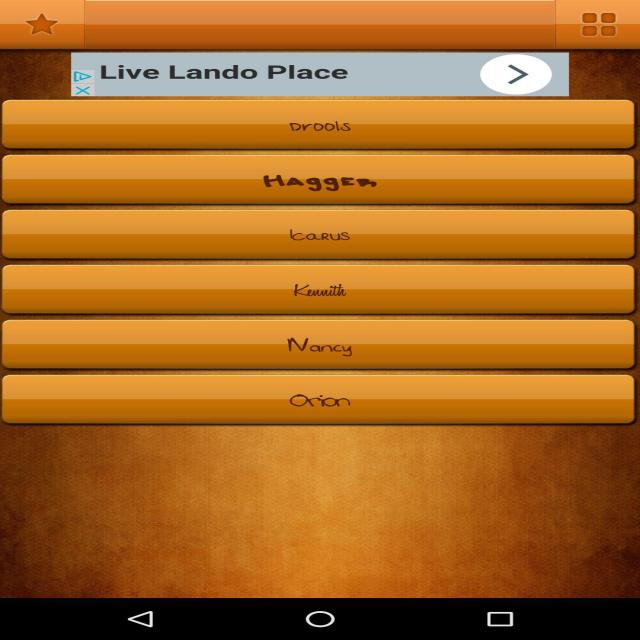button: (6, 92, 640, 442)
